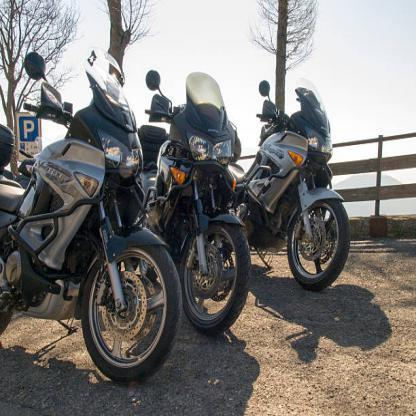Motorcycle: (0, 44, 184, 380), (138, 58, 254, 338), (249, 77, 357, 291)
